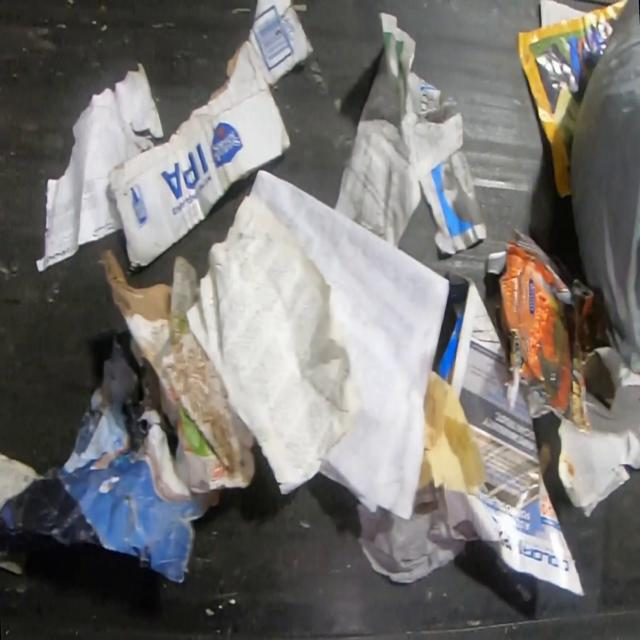cardboard: (108, 0, 314, 270), (97, 247, 257, 501)
soft_plastic: (484, 227, 612, 434), (571, 0, 640, 374)
